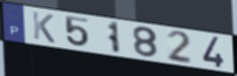1: (107, 20, 123, 56)
2: (165, 29, 194, 65)
4: (200, 36, 226, 69)
5: (63, 14, 91, 49)
8: (131, 26, 159, 59)
K: (31, 10, 57, 45)
